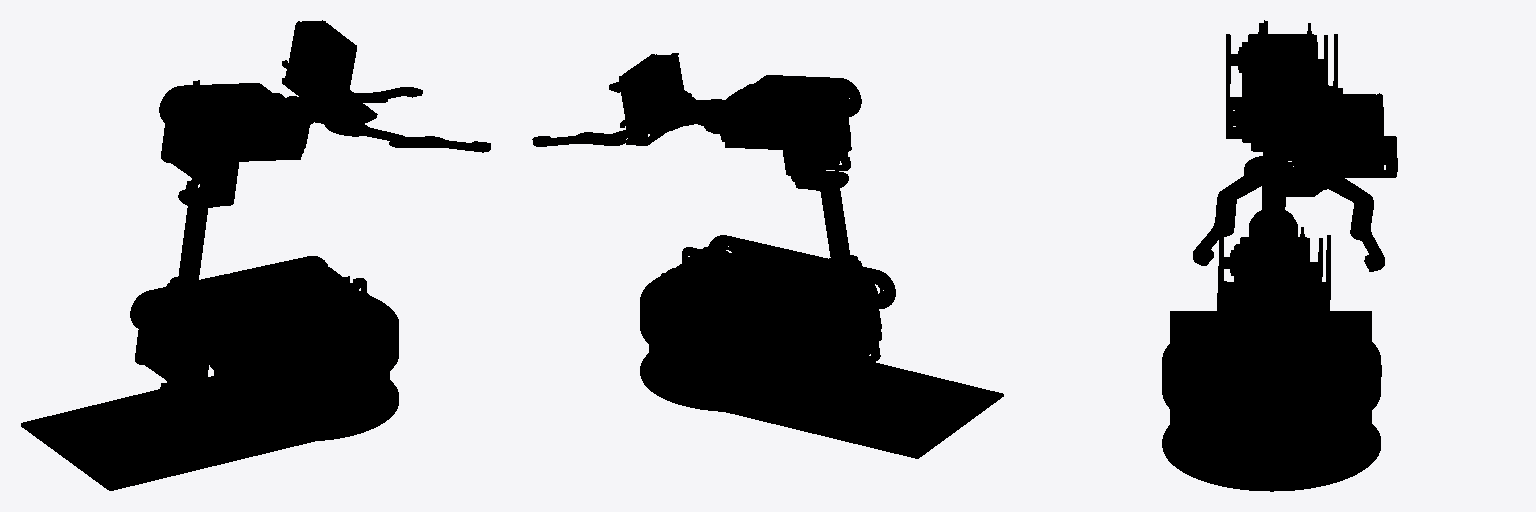
URDF robot description (arm):
<?xml version="1.0" encoding="utf-8"?>
<robot name="arm">

  <material name="black">
    <color rgba="0.0 0.0 0.0 1.0"/>
  </material>

  <link name="world"/>

  <joint name="world_to_base" type="fixed">
    <parent link="world"/>
    <child link="base_link"/>
    <origin xyz="0.1 0 0" rpy="0 0 0"/>
  </joint>

  <link name="base_link">
    <inertial>
      <mass value="2.0"/>
      <origin xyz="0 0 0.01"/>
      <inertia ixx="0.01" ixy="0.0" ixz="0.0" iyy="0.01" iyz="0.0" izz="0.01"/>
    </inertial>
    <visual>
      <geometry>
        <mesh filename="package://arm_bringup/meshes/base_cylinder.stl"/>
      </geometry>
      <origin xyz="0 0 0.01"/>
      <material name="black"/>
    </visual>
    <collision>
      <geometry>
        <mesh filename="package://arm_bringup/meshes/base_cylinder.stl"/>
      </geometry>
      <origin xyz="0 0 0.01"/>
    </collision>
  </link>

  <link name="platform">
    <inertial>
      <mass value="1.0"/>
      <origin xyz="0 0 0"/>
      <inertia ixx="0.005" ixy="0.0" ixz="0.0" iyy="0.005" iyz="0.0" izz="0.005"/>
    </inertial>
    <visual>
      <geometry>
        <mesh filename="package://arm_bringup/meshes/top_plate.stl"/>
      </geometry>
      <origin xyz="0 0 0"/>
      <material name="black"/>
    </visual>
    <collision>
      <geometry>
        <mesh filename="package://arm_bringup/meshes/top_plate.stl"/>
      </geometry>
      <origin xyz="0 0 0"/>
    </collision>
  </link>

  <link name="lower_arm">
    <inertial>
      <mass value="0.8"/>
      <origin xyz="0 0 0"/>
      <inertia ixx="0.004" ixy="0.0" ixz="0.0" iyy="0.004" iyz="0.0" izz="0.004"/>
    </inertial>
    <visual>
      <geometry>
        <mesh filename="package://arm_bringup/meshes/lower_arm.stl"/>
      </geometry>
      <origin xyz="0 0 0"/>
      <material name="black"/>
    </visual>
    <collision>
      <geometry>
        <mesh filename="package://arm_bringup/meshes/lower_arm.stl"/>
      </geometry>
      <origin xyz="0 0 0"/>
    </collision>
  </link>

  <link name="top_arm">
    <inertial>
      <mass value="0.6"/>
      <origin xyz="0 0 0"/>
      <inertia ixx="0.003" ixy="0.0" ixz="0.0" iyy="0.003" iyz="0.0" izz="0.003"/>
    </inertial>
    <visual>
      <geometry>
        <mesh filename="package://arm_bringup/meshes/top_arm.stl"/>
      </geometry>
      <origin rpy="0 1.59 0" xyz="0 0 0"/>
      <material name="black"/>
    </visual>
    <collision>
      <geometry>
        <mesh filename="package://arm_bringup/meshes/top_arm.stl"/>
      </geometry>
      <origin rpy="0 1.59 0" xyz="0 0 0"/>
    </collision>
  </link>

  <link name="wrist">
    <inertial>
      <mass value="0.4"/>
      <origin xyz="0 0 0"/>
      <inertia ixx="0.002" ixy="0.0" ixz="0.0" iyy="0.002" iyz="0.0" izz="0.002"/>
    </inertial>
    <visual>
      <geometry>
        <mesh filename="package://arm_bringup/meshes/wrist.stl"/>
      </geometry>
      <origin rpy="0 0 0" xyz="0 0 0"/>
      <material name="black"/>
    </visual>
    <collision>
      <geometry>
        <mesh filename="package://arm_bringup/meshes/wrist.stl"/>
      </geometry>
      <origin rpy="0 0 0" xyz="0 0 0"/>
    </collision>
  </link>

  <link name="clawbase">
    <inertial>
      <mass value="0.3"/>
      <origin xyz="0 0 0"/>
      <inertia ixx="0.001" ixy="0.0" ixz="0.0" iyy="0.001" iyz="0.0" izz="0.001"/>
    </inertial>
    <visual>
      <geometry>
        <mesh filename="package://arm_bringup/meshes/clawbase.stl"/>
      </geometry>
      <origin rpy="0 3.18 0" xyz="0 0 0"/>
      <material name="black"/>
    </visual>
    <collision>
      <geometry>
        <mesh filename="package://arm_bringup/meshes/clawbase.stl"/>
      </geometry>
      <origin rpy="0 3.18 0" xyz="0 0 0"/>
    </collision>
  </link>

  <link name="clawr">
    <inertial>
      <mass value="0.1"/>
      <origin xyz="0 0 0"/>
      <inertia ixx="0.0005" ixy="0.0" ixz="0.0" iyy="0.0005" iyz="0.0" izz="0.0005"/>
    </inertial>
    <visual>
      <geometry>
        <mesh filename="package://arm_bringup/meshes/clawr.stl"/>
      </geometry>
      <origin rpy="0 0 0" xyz="0 0 0"/>
      <material name="black"/>
    </visual>
    <collision>
      <geometry>
        <mesh filename="package://arm_bringup/meshes/clawr.stl"/>
      </geometry>
      <origin rpy="0 0 0" xyz="0 0 0"/>
    </collision>
  </link>

  <link name="clawl">
    <inertial>
      <mass value="0.1"/>
      <origin xyz="0 0 0"/>
      <inertia ixx="0.0005" ixy="0.0" ixz="0.0" iyy="0.0005" iyz="0.0" izz="0.0005"/>
    </inertial>
    <visual>
      <geometry>
        <mesh filename="package://arm_bringup/meshes/clawl.stl"/>
      </geometry>
      <material name="black"/>
      <origin rpy="0 0 0" xyz="0 0 0"/>
    </visual>
    <collision>
      <geometry>
        <mesh filename="package://arm_bringup/meshes/clawl.stl"/>
      </geometry>
      <origin rpy="0 0 0" xyz="0 0 0"/>
    </collision>
  </link>

  <joint name="joint1" type="revolute">
    <axis xyz="0 0 1" />
    <limit effort="1000.0" lower="-1.56" upper="1.58" velocity="4.5" />
    <parent link="base_link"/>
    <child link="platform"/>
    <origin rpy="0 0 -1.58" xyz="0 0 0.048"/>
  </joint>

  <joint name="joint2" type="revolute">
    <axis xyz="1 0 0" />
    <limit effort="1000.0" lower="-3.12" upper="0.0" velocity="4.5" />
    <parent link="platform"/>
    <child link="lower_arm"/>
    <origin rpy="3.12 0 0" xyz="0 0.019 0.028"/>
  </joint>

  <joint name="joint3" type="revolute">
    <axis xyz="1 0 0" />
    <limit effort="1000.0" lower="0.0" upper="3.4" velocity="4.5" />
    <parent link="lower_arm"/>
    <child link="top_arm"/>
    <origin rpy="-1.70 0 0" xyz="-0.025 0.1 0"/>
  </joint>

  <joint name="joint4" type="revolute">
    <axis xyz="1 0 0" />
    <limit effort="1000.0" lower="-0.08" upper="3.32" velocity="4.5" />
    <parent link="top_arm"/>
    <child link="wrist"/>
    <origin rpy="-1.62 0 0" xyz="0.011 0.125 0"/>
  </joint>

  <joint name="joint5" type="revolute">
    <axis xyz="0 1 0" />
    <limit effort="1000.0" lower="0.0" upper="3.17" velocity="4.5" />
    <parent link="wrist"/>
    <child link="clawbase"/>
    <origin rpy="0 -3.17 0" xyz="0 0.063 0"/>
  </joint>

  <joint name="joint6" type="revolute">
    <axis xyz="0 0 1" />
    <limit effort="30.0" lower="0.0" upper="0.5" velocity="4.5" />
    <parent link="clawbase"/>
    <child link="clawr"/>
    <origin rpy="0 0 -0.81" xyz="0.011 0.034 0"/>
  </joint>

  <joint name="joint7" type="revolute">
    <axis xyz="0 0 1" />
    <limit effort="30.0" lower="-0.5" upper="0.0" velocity="4.5" />
    <parent link="clawbase"/>
    <child link="clawl"/>
    <origin rpy="0 0 0.72" xyz="-0.016 0.030 0"/>
    <mimic joint="joint6" multiplier="-1" offset="0" />
  </joint>

  <ros2_control name="GazeboSimSystem" type="system">
    <hardware>
      <plugin>gz_ros2_control/GazeboSimSystem</plugin>    
    </hardware>

    <joint name="joint1">
      <command_interface name="position">
        <param name="min">-1.57</param>
        <param name="max">1.57</param>
      </command_interface>
      <state_interface name="position"/>
      <state_interface name="velocity"/>
    </joint>

    <joint name="joint2">
      <command_interface name="position">
        <param name="min">-3.12</param> <param name="max">0.0</param>   </command_interface>
      <state_interface name="position"/>
      <state_interface name="velocity"/>
    </joint>

    <joint name="joint3">
      <command_interface name="position">
        <param name="min">0.0</param>   <param name="max">3.4</param>   </command_interface>
      <state_interface name="position"/>
      <state_interface name="velocity"/>
    </joint>

    <joint name="joint4">
      <command_interface name="position">
        <param name="min">-1.7</param>
        <param name="max">1.7</param>
      </command_interface>
      <state_interface name="position"/>
      <state_interface name="velocity"/>
    </joint>

    <joint name="joint5">
      <command_interface name="position">
        <param name="min">0.0</param>   <param name="max">3.17</param>  </command_interface>
      <state_interface name="position"/>
      <state_interface name="velocity"/>
    </joint>

    <joint name="joint6">
      <command_interface name="position">
        <param name="min">0.0</param> <param name="max">0.5</param> 
      </command_interface>
      <command_interface name="effort"/> <state_interface name="position"/>
      <state_interface name="velocity"/>
    </joint>

    <joint name="joint7">
      <param name="mimic">joint6</param>        <!-- leader joint -->
      <param name="mimic_multiplier">-1.0</param> <!-- mirror direction -->
      <param name="mimic_offset">0.0</param>
      <state_interface name="position"/>        <!-- read-only state is fine -->
      <state_interface name="velocity"/>
    </joint>

  </ros2_control>

  <gazebo>
    <plugin filename="gz_ros2_control-system" name="gz_ros2_control::GazeboSimROS2ControlPlugin">
      <parameters>/home/phat/b_arm/install/arm_bringup/share/arm_bringup/config/ros2_controllers.yaml</parameters>
    </plugin>
  </gazebo>

  <gazebo reference="clawr">
    <mu1>3.0</mu1>
    <mu2>3.0</mu2>
    <kp>10000000.0</kp> <kd>1.0</kd>
    <minDepth>0.001</minDepth>
  </gazebo>

  <gazebo reference="clawl">
    <mu1>3.0</mu1>
    <mu2>3.0</mu2>
    <kp>10000000.0</kp> <kd>1.0</kd>
    <minDepth>0.001</minDepth>
  </gazebo>

</robot>

--- Facts derived from the render (not from the file) ---
3 views of the same robot in one strip: view 1: azimuth 30°, elevation 25°; view 2: azimuth 150°, elevation 25°; view 3: azimuth 270°, elevation 25° (orthographic).
Robot: arm — 9 links, 8 joints (7 revolute, 1 fixed); root link world; default pose: every joint at zero.
Links seen in each view (by area): view 1: base_link, top_arm, lower_arm, wrist, clawbase, platform, clawl, clawr; view 2: base_link, top_arm, lower_arm, wrist, clawbase, platform, clawr; view 3: base_link, clawbase, top_arm, platform, wrist, lower_arm, clawl, clawr.
Boxes of the visible links, x1=… form: base_link: x1=21, y1=296, x2=398, y2=490; top_arm: x1=135, y1=80, x2=239, y2=397; lower_arm: x1=130, y1=256, x2=375, y2=366; wrist: x1=159, y1=83, x2=310, y2=161; clawbase: x1=282, y1=20, x2=377, y2=127; platform: x1=225, y1=261, x2=366, y2=373; clawl: x1=324, y1=124, x2=490, y2=152; clawr: x1=315, y1=87, x2=422, y2=116; base_link: x1=640, y1=275, x2=1003, y2=458; top_arm: x1=779, y1=79, x2=881, y2=371; lower_arm: x1=661, y1=235, x2=895, y2=341; wrist: x1=714, y1=75, x2=861, y2=150; clawbase: x1=619, y1=53, x2=722, y2=145; platform: x1=640, y1=247, x2=804, y2=350; clawr: x1=532, y1=127, x2=679, y2=146; base_link: x1=1162, y1=311, x2=1380, y2=491; clawbase: x1=1261, y1=93, x2=1397, y2=196; top_arm: x1=1223, y1=20, x2=1327, y2=309; platform: x1=1200, y1=303, x2=1381, y2=412; wrist: x1=1226, y1=34, x2=1342, y2=144; lower_arm: x1=1216, y1=235, x2=1330, y2=375; clawl: x1=1193, y1=155, x2=1293, y2=265; clawr: x1=1292, y1=170, x2=1384, y2=271.
Bounding box of the posed robot: 0.2675 × 0.1204 × 0.2119 m (x, y, z).
Meshes: 8 distinct files referenced, 8 mesh visuals loaded (8 binary STL).
